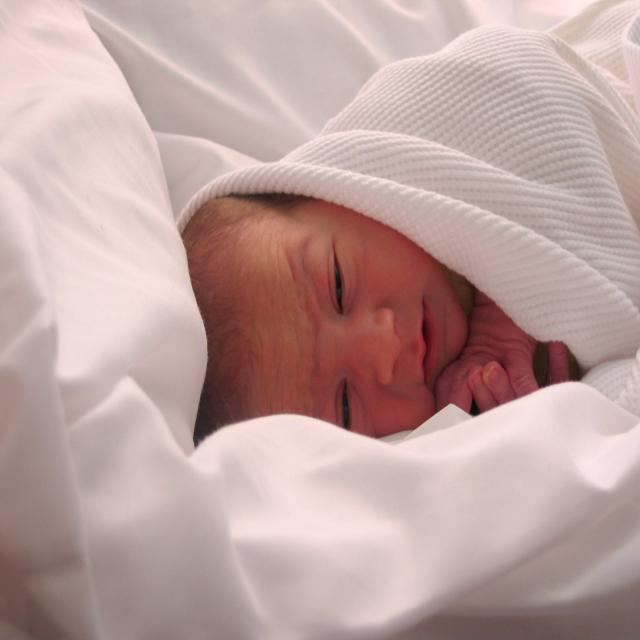blanket: (178, 27, 640, 368)
